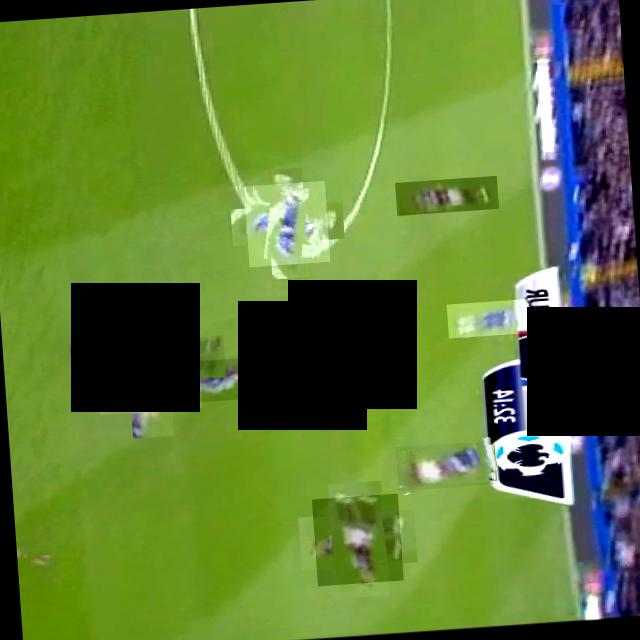referee: (92, 306, 201, 414)
soccer-player: (310, 493, 402, 586), (242, 180, 328, 266), (130, 356, 264, 406), (394, 440, 497, 491), (393, 176, 497, 216), (446, 298, 532, 338), (15, 548, 53, 592)
